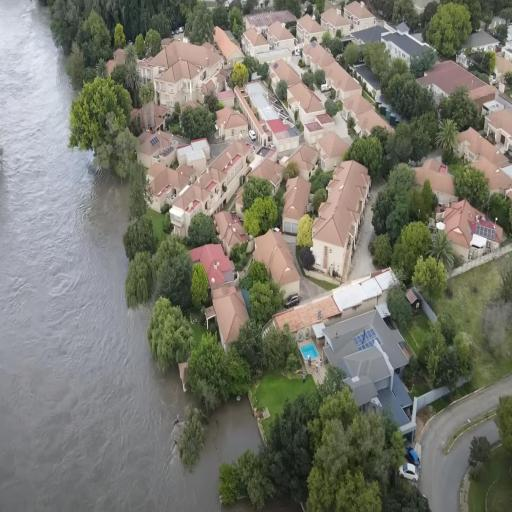flood: (0, 1, 260, 512)
house: (415, 372, 512, 512), (322, 306, 407, 405), (313, 157, 371, 280), (142, 38, 212, 110), (439, 199, 505, 257), (454, 132, 508, 198), (420, 56, 486, 108), (251, 233, 302, 299), (206, 138, 249, 211), (278, 68, 328, 128), (200, 221, 248, 282), (186, 240, 236, 291), (382, 26, 432, 75), (211, 292, 251, 347), (406, 156, 458, 198), (214, 208, 246, 260), (138, 128, 178, 169), (282, 174, 308, 237), (484, 103, 512, 153), (217, 106, 250, 146), (355, 60, 382, 99), (288, 140, 320, 172), (345, 0, 376, 31), (466, 31, 500, 59), (214, 26, 239, 62), (321, 4, 349, 36), (243, 25, 270, 57), (297, 14, 326, 42), (270, 20, 296, 49), (266, 118, 290, 144), (218, 90, 236, 106)
